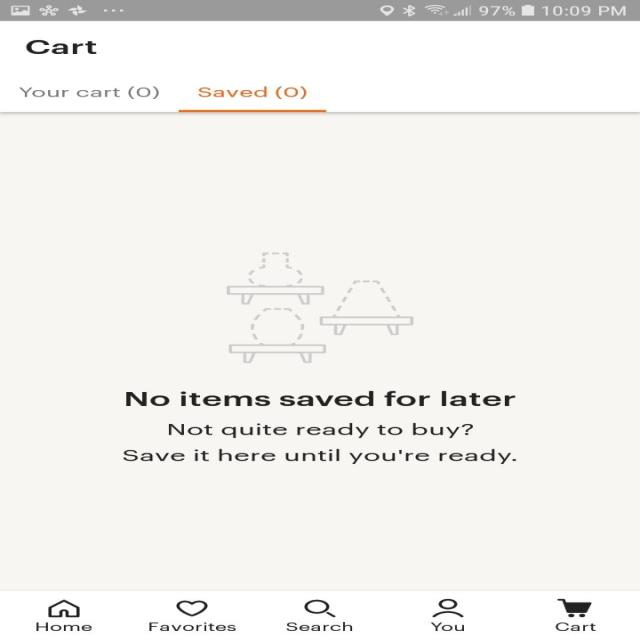Icon: (556, 598, 592, 617), (431, 598, 463, 617), (47, 599, 80, 617), (303, 599, 335, 617), (175, 599, 208, 616)
Image: (226, 252, 414, 363)
Text: (122, 423, 516, 463), (125, 390, 516, 406), (19, 87, 160, 99), (197, 86, 307, 100), (26, 40, 97, 54), (148, 621, 235, 631), (285, 621, 352, 631), (36, 622, 91, 631), (554, 622, 594, 630), (429, 622, 464, 631)
